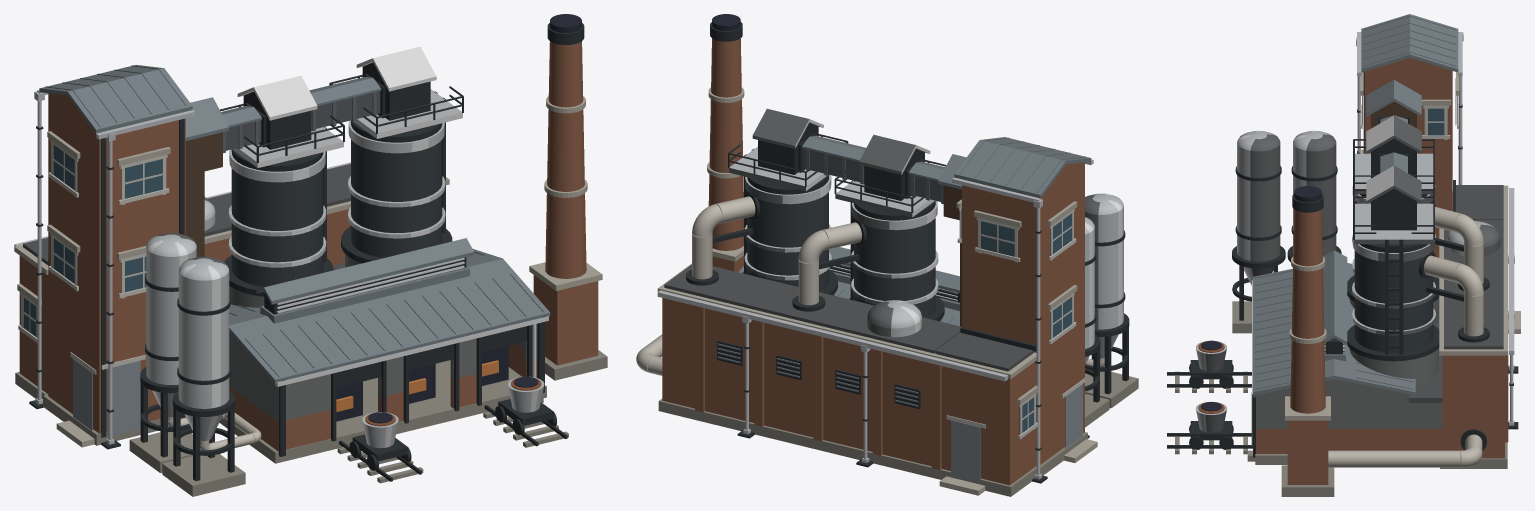
Rendered from furnace_lvl3.glb.
3 views of the same model, side by side, from view 1: azimuth 30°, elevation 25°; view 2: azimuth 150°, elevation 25°; view 3: azimuth 270°, elevation 25° (orthographic). The views are drawn at different scales.
Visible parts, largest first — view 1: furnace_v2, furnace_v2_Glass; view 2: furnace_v2, furnace_v2_Glass; view 3: furnace_v2, furnace_v2_Glass.
Part boxes in pixels (<box>): furnace_v2: <box>14,14,607,496</box>; furnace_v2_Glass: <box>23,144,162,336</box>; furnace_v2: <box>636,14,1138,496</box>; furnace_v2_Glass: <box>961,208,1071,432</box>; furnace_v2: <box>1167,14,1520,496</box>; furnace_v2_Glass: <box>1362,96,1456,135</box>.
Bounding box in the file's own units: 1 × 0.6871 × 0.749.
